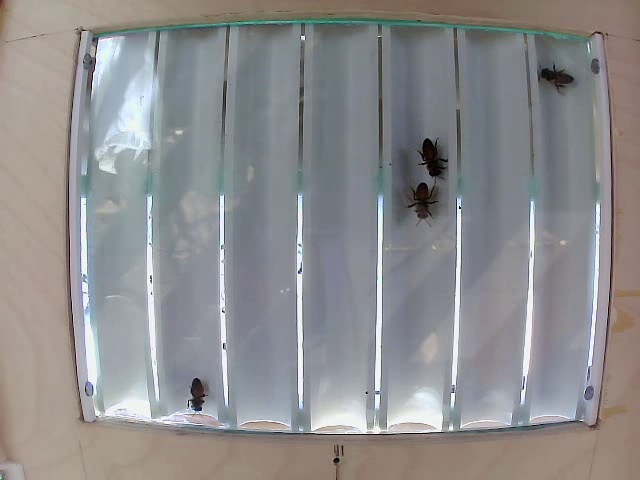bee: (405, 183, 442, 236), (535, 66, 576, 107), (415, 146, 449, 194), (176, 380, 220, 417)
